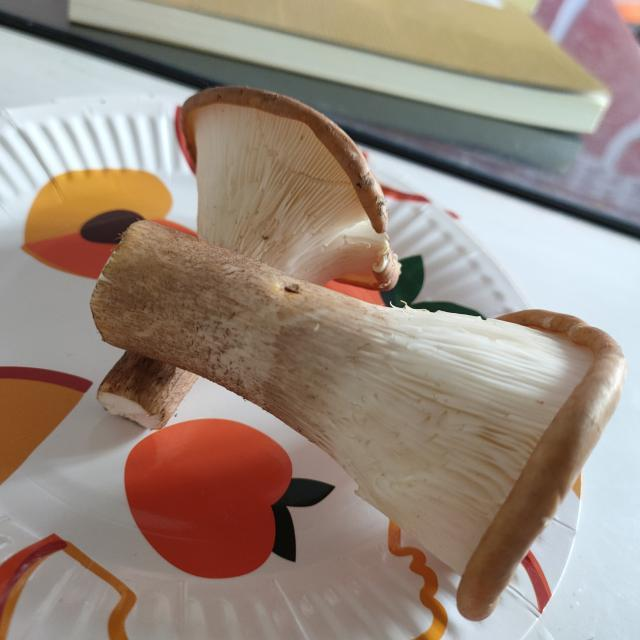Clitocybe maxima: (92, 218, 624, 624), (99, 87, 402, 436)
